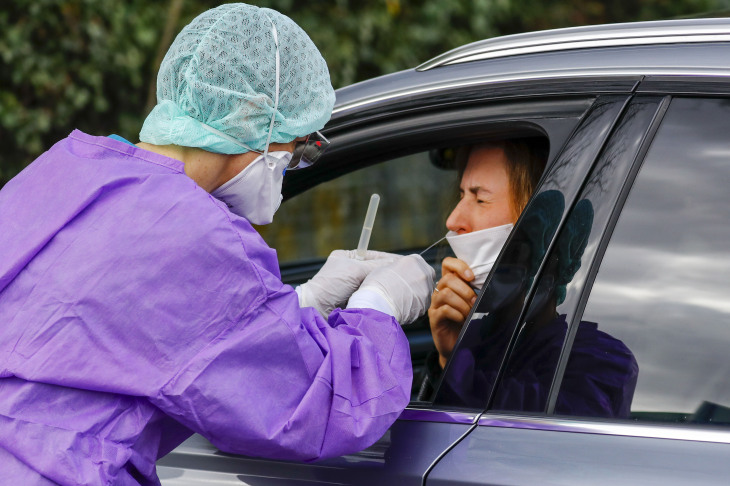Gloves: (294, 245, 409, 331), (348, 250, 438, 324)
Goggles: (275, 121, 332, 178)
mask_weared_incorrect: (444, 183, 509, 302)
with_mask: (217, 127, 304, 233)
